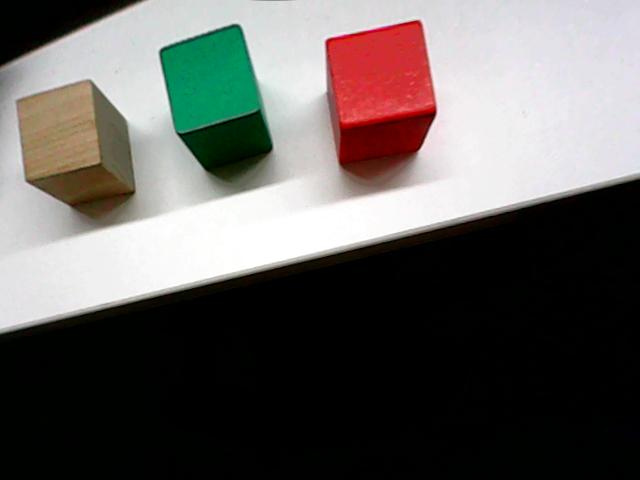green_box: (156, 21, 275, 175)
raw_box: (13, 75, 138, 210)
red_box: (321, 16, 440, 167)
